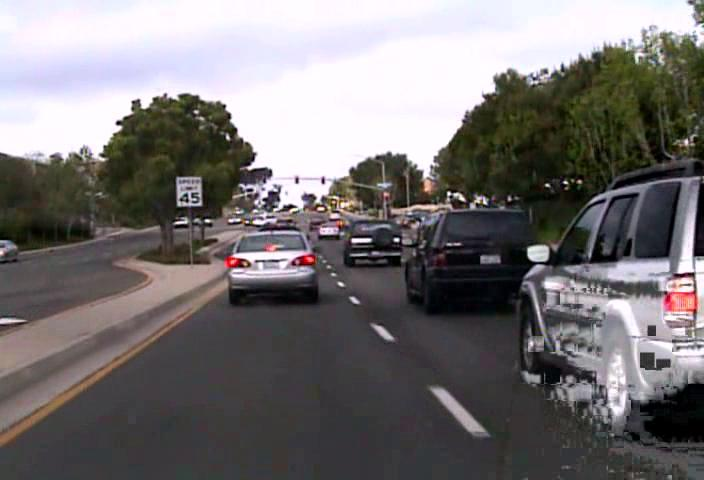speedLimit45: (175, 175, 202, 207)
